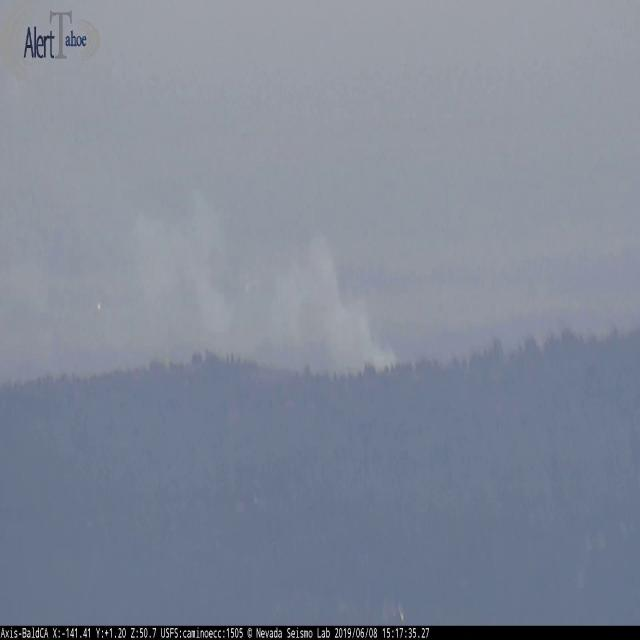smoke: (72, 131, 406, 375)
